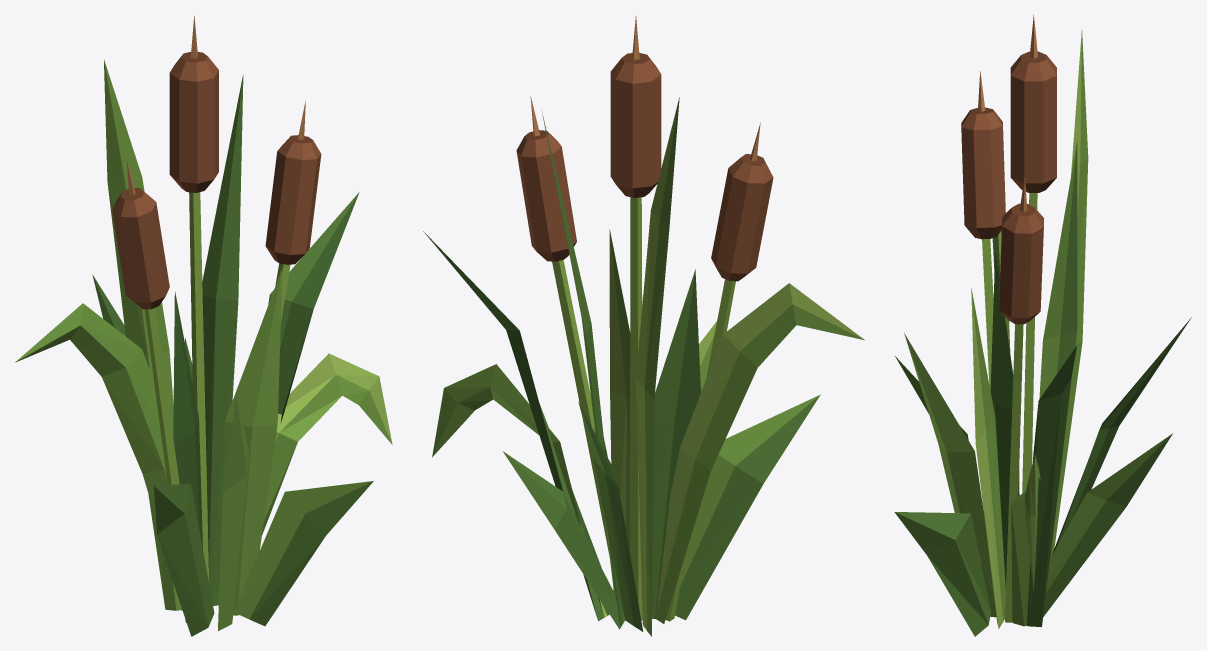
The model's file is FMS_Grass_Reeds.fbx.
3 views of the same model, side by side, from view 1: azimuth 30°, elevation 25°; view 2: azimuth 150°, elevation 25°; view 3: azimuth 270°, elevation 25° (orthographic). The views are drawn at different scales.
Visible parts, largest first — view 1: FMS_Grass_Reeds; view 2: FMS_Grass_Reeds; view 3: FMS_Grass_Reeds.
Boxes of the visible parts, x1,y1,x2,y2 form: FMS_Grass_Reeds: [15, 16, 392, 636]; FMS_Grass_Reeds: [423, 16, 864, 636]; FMS_Grass_Reeds: [894, 14, 1191, 636].
Size of the model in its own units: 0.962 by 1.38 by 0.62.
